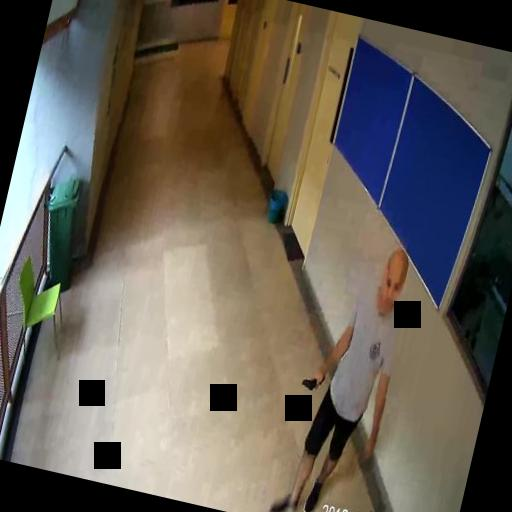Handgun: (300, 368, 324, 392)
